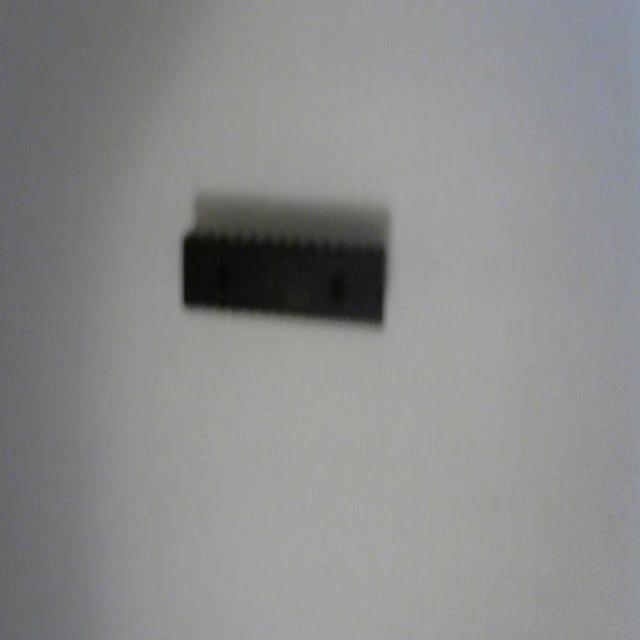atmega: (179, 186, 393, 332)
